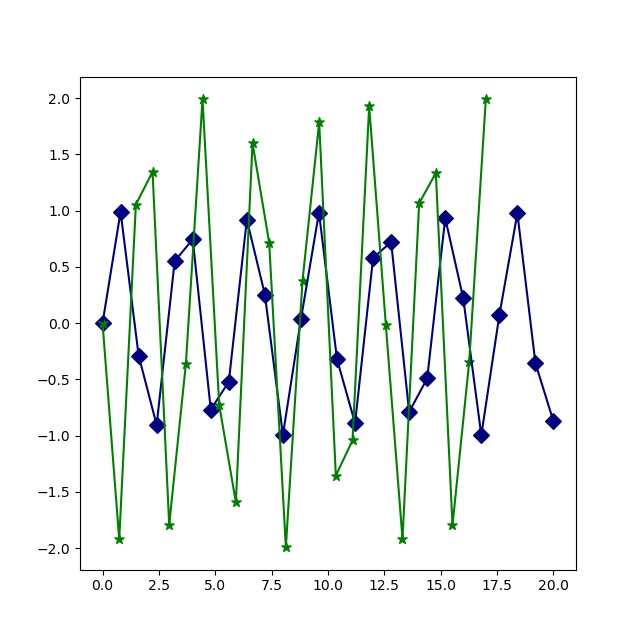diamond: (97, 317, 110, 330), (115, 206, 128, 219), (133, 350, 146, 363), (151, 419, 164, 432), (169, 255, 182, 268), (187, 233, 200, 246), (205, 404, 218, 417), (223, 376, 236, 389), (241, 214, 254, 227), (259, 289, 272, 302), (277, 429, 290, 442), (295, 313, 308, 326), (313, 207, 326, 220), (331, 353, 344, 366), (349, 417, 362, 430), (367, 252, 380, 265), (385, 236, 398, 249), (403, 406, 416, 419), (421, 372, 434, 385), (439, 212, 452, 225), (457, 292, 470, 305), (475, 429, 488, 442), (493, 309, 506, 322), (511, 207, 524, 220), (529, 357, 542, 370), (547, 415, 560, 428)
star: (97, 318, 109, 330), (114, 534, 126, 546), (130, 199, 142, 211), (147, 166, 159, 178), (164, 519, 176, 531), (180, 359, 192, 371), (197, 94, 209, 106), (214, 399, 226, 411), (230, 497, 242, 509), (247, 138, 259, 150), (264, 237, 276, 249), (280, 542, 292, 554), (297, 275, 309, 287), (314, 117, 326, 129), (330, 470, 342, 482), (347, 435, 359, 447), (364, 101, 376, 113), (380, 319, 392, 331), (397, 534, 409, 546), (414, 198, 426, 210), (430, 167, 442, 179), (447, 520, 459, 532), (464, 357, 476, 369), (480, 94, 492, 106)
